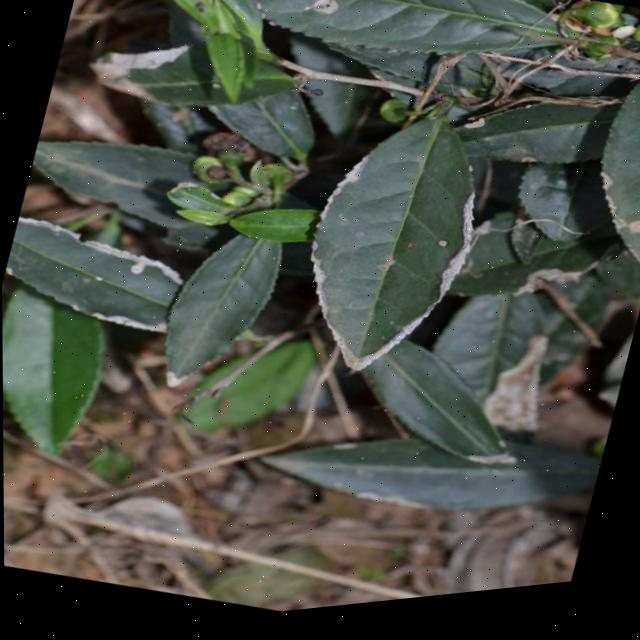Tea cloud leaf blight: (282, 143, 508, 409)
